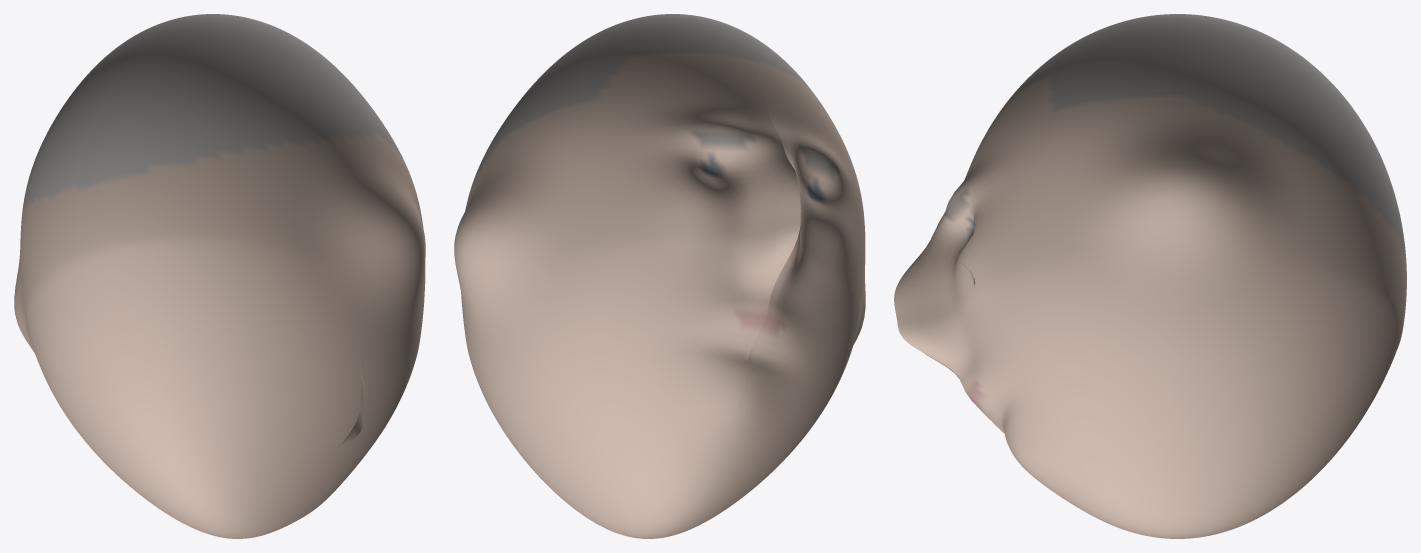
The picture shows the model from 3 angles, left to right: view 1: azimuth 30°, elevation 25°; view 2: azimuth 150°, elevation 25°; view 3: azimuth 270°, elevation 25°; orthographic projection.
Parts seen in each view (by area): view 1: Head; view 2: Head; view 3: Head.
Part boxes in pixels (x1,y1,x2,y2): Head: (14,14,425,538); Head: (454,14,865,538); Head: (894,14,1406,538).
Size of the model in its own units: 1.84 by 2.24 by 2.06.
